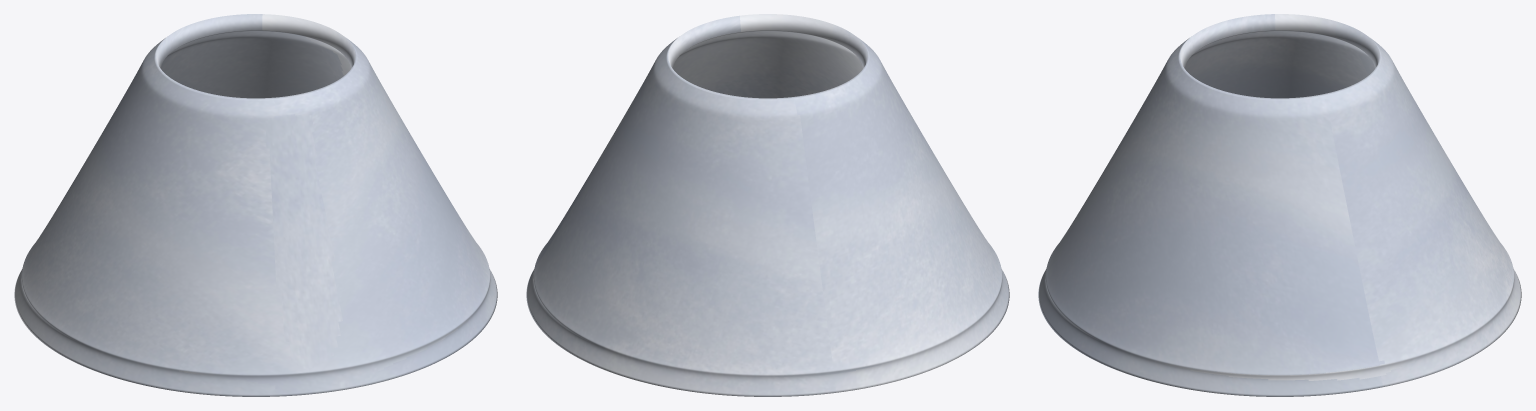
The model's file is abajour_texture.fbx.
3 views of the same model, side by side, from view 1: azimuth 30°, elevation 25°; view 2: azimuth 150°, elevation 25°; view 3: azimuth 270°, elevation 25° (orthographic).
Parts seen in each view (by area): view 1: abajour; view 2: abajour; view 3: abajour.
Part boxes in pixels (x1,y1,x2,y2): abajour: [14, 14, 497, 396]; abajour: [526, 14, 1009, 396]; abajour: [1038, 14, 1521, 396].
Bounding box in the file's own units: 43.5 × 24.03 × 43.5.
